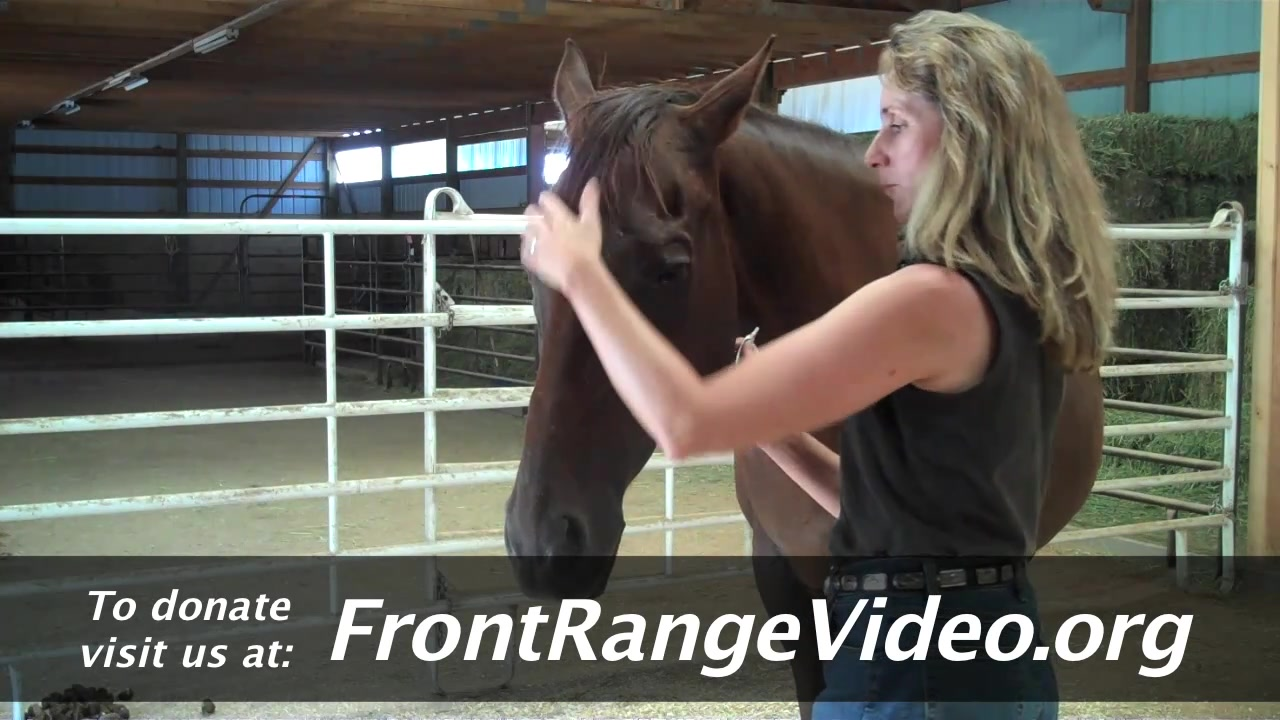horse: (502, 35, 1106, 720)
